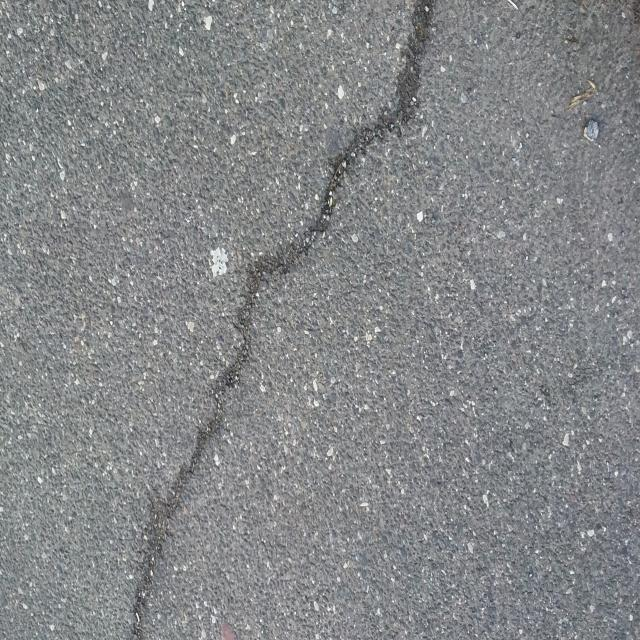Crack: (237, 0, 435, 353), (129, 355, 244, 640)
